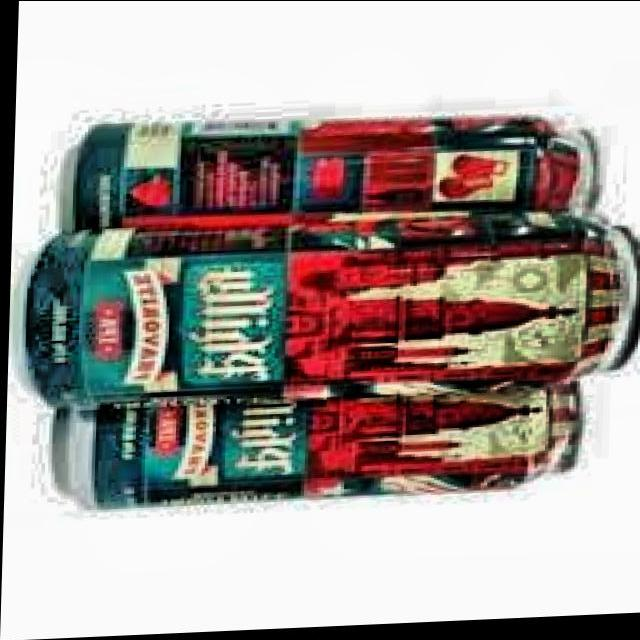Aluminum Can: (12, 208, 640, 406), (50, 99, 612, 248), (48, 375, 591, 517)
